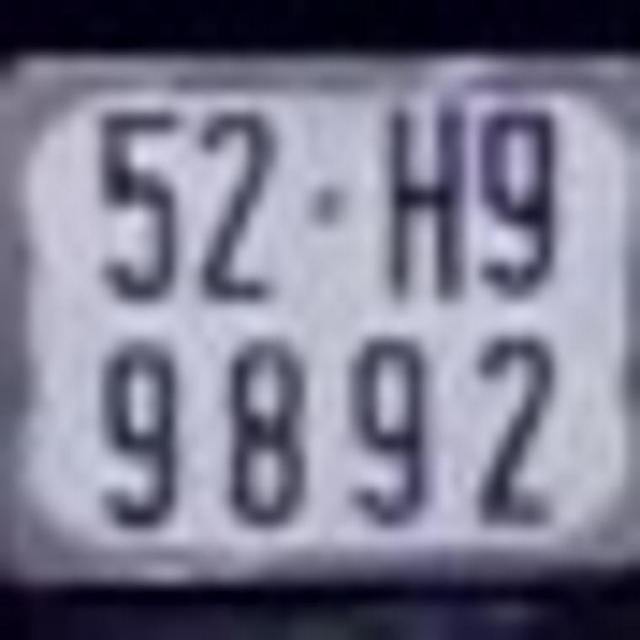2: (474, 332, 559, 535), (198, 96, 274, 314)
5: (99, 97, 180, 304)
8: (229, 324, 309, 535)
9: (347, 322, 433, 536), (476, 93, 560, 304), (101, 330, 179, 537)
H: (383, 96, 469, 306)
